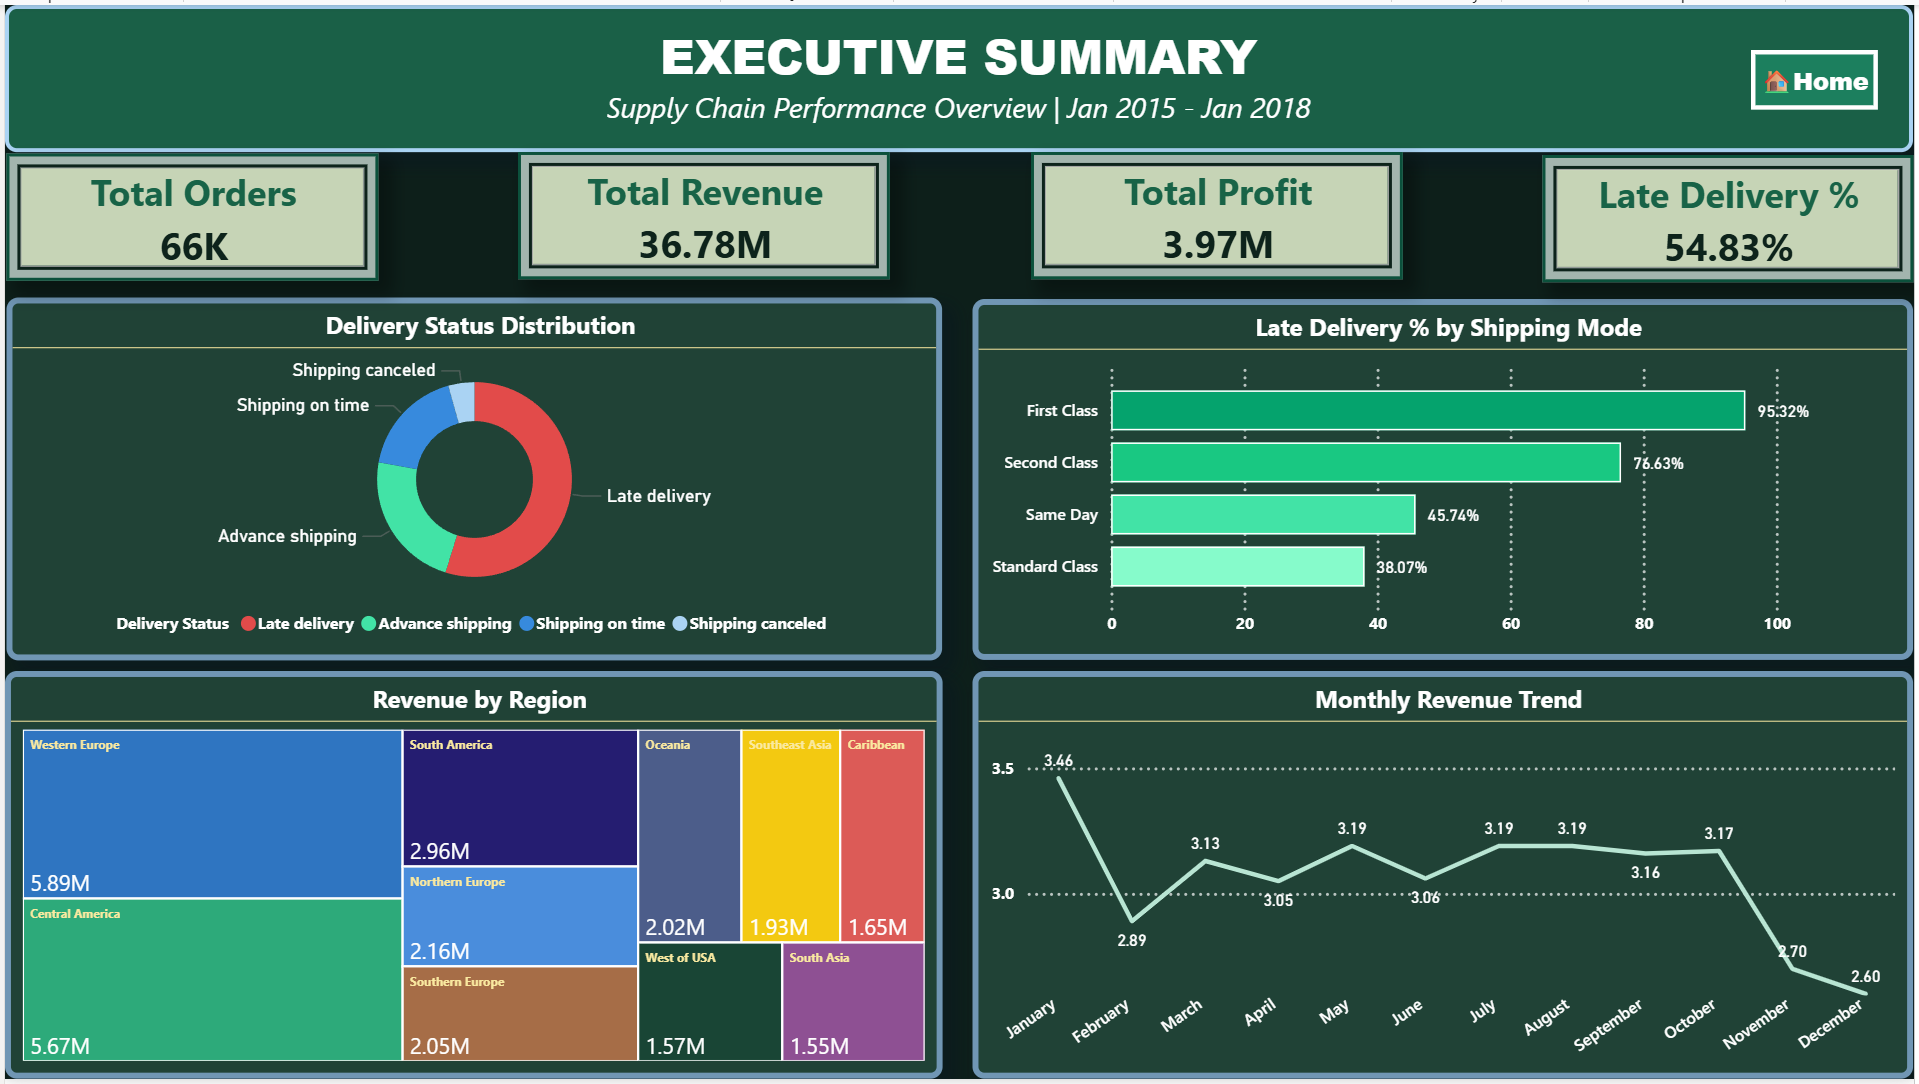

Layout of this report page (visuals, bound fields, positions):
{"tool":"powerbi","page":{"name":"Executive Summary","canvas":[1280,720],"ordinal":1},"visuals":[{"type":"textbox","box":[0,0,1279.3,98.6],"z":0},{"type":"donutChart","title":"Delivery Status Distribution","fields":{"Category":["supply_chain_cleaned.Delivery Status"],"Y":["supply_chain_cleaned.Total Orders"]},"box":[1,196.1,627.6,243.4],"z":1000},{"type":"clusteredBarChart","title":"Late Delivery % by Shipping Mode","fields":{"Category":["supply_chain_cleaned.Shipping Mode"],"Y":["supply_chain_cleaned.Late Delivery %"]},"box":[648.9,196.8,630.6,241.9],"z":2000},{"type":"treemap","title":"Revenue by Region","fields":{"Group":["supply_chain_cleaned.Order Region"],"Values":["supply_chain_cleaned.Total Revenue"]},"box":[0,446.6,628.6,273.6],"z":3000},{"type":"cardVisual","fields":{"Data":["supply_chain_cleaned.Total Revenue"]},"box":[344.3,98.6,249.4,85.5],"z":4000},{"type":"cardVisual","fields":{"Data":["supply_chain_cleaned.Total Profit"]},"box":[687.6,98.6,249.4,85.5],"z":5000},{"type":"cardVisual","fields":{"Data":["supply_chain_cleaned.Total Orders"]},"box":[1,99.6,249.4,85.5],"z":6000},{"type":"cardVisual","fields":{"Data":["supply_chain_cleaned.Late Delivery %"]},"box":[1030.9,100.1,248.6,85.1],"z":7000},{"type":"lineChart","title":" Monthly Revenue Trend","fields":{"Category":["supply_chain_cleaned.order date (DateOrders).Variation.Date Hierarchy.Month"],"Y":["supply_chain_cleaned.Total Revenue"]},"box":[648.7,446.4,630.6,273.6],"z":8000},{"type":"actionButton","box":[1171,30,85.1,40],"z":9000}]}

Visuals, with their boxes in screenshot pixels (x1, y1, x2, y2), scaled from the page's 1280x720 canvas onto the 1919x1084 screenshot:
textbox: bbox=(0, 0, 1918, 148)
"Delivery Status Distribution" donutChart: bbox=(1, 295, 942, 662)
"Late Delivery % by Shipping Mode" clusteredBarChart: bbox=(973, 296, 1918, 660)
"Revenue by Region" treemap: bbox=(0, 672, 942, 1083)
cardVisual - supply_chain_cleaned.Total Revenue: bbox=(516, 148, 890, 277)
cardVisual - supply_chain_cleaned.Total Profit: bbox=(1031, 148, 1405, 277)
cardVisual - supply_chain_cleaned.Total Orders: bbox=(1, 150, 375, 279)
cardVisual - supply_chain_cleaned.Late Delivery %: bbox=(1546, 151, 1918, 279)
" Monthly Revenue Trend" lineChart: bbox=(973, 672, 1918, 1083)
actionButton: bbox=(1756, 45, 1883, 105)
